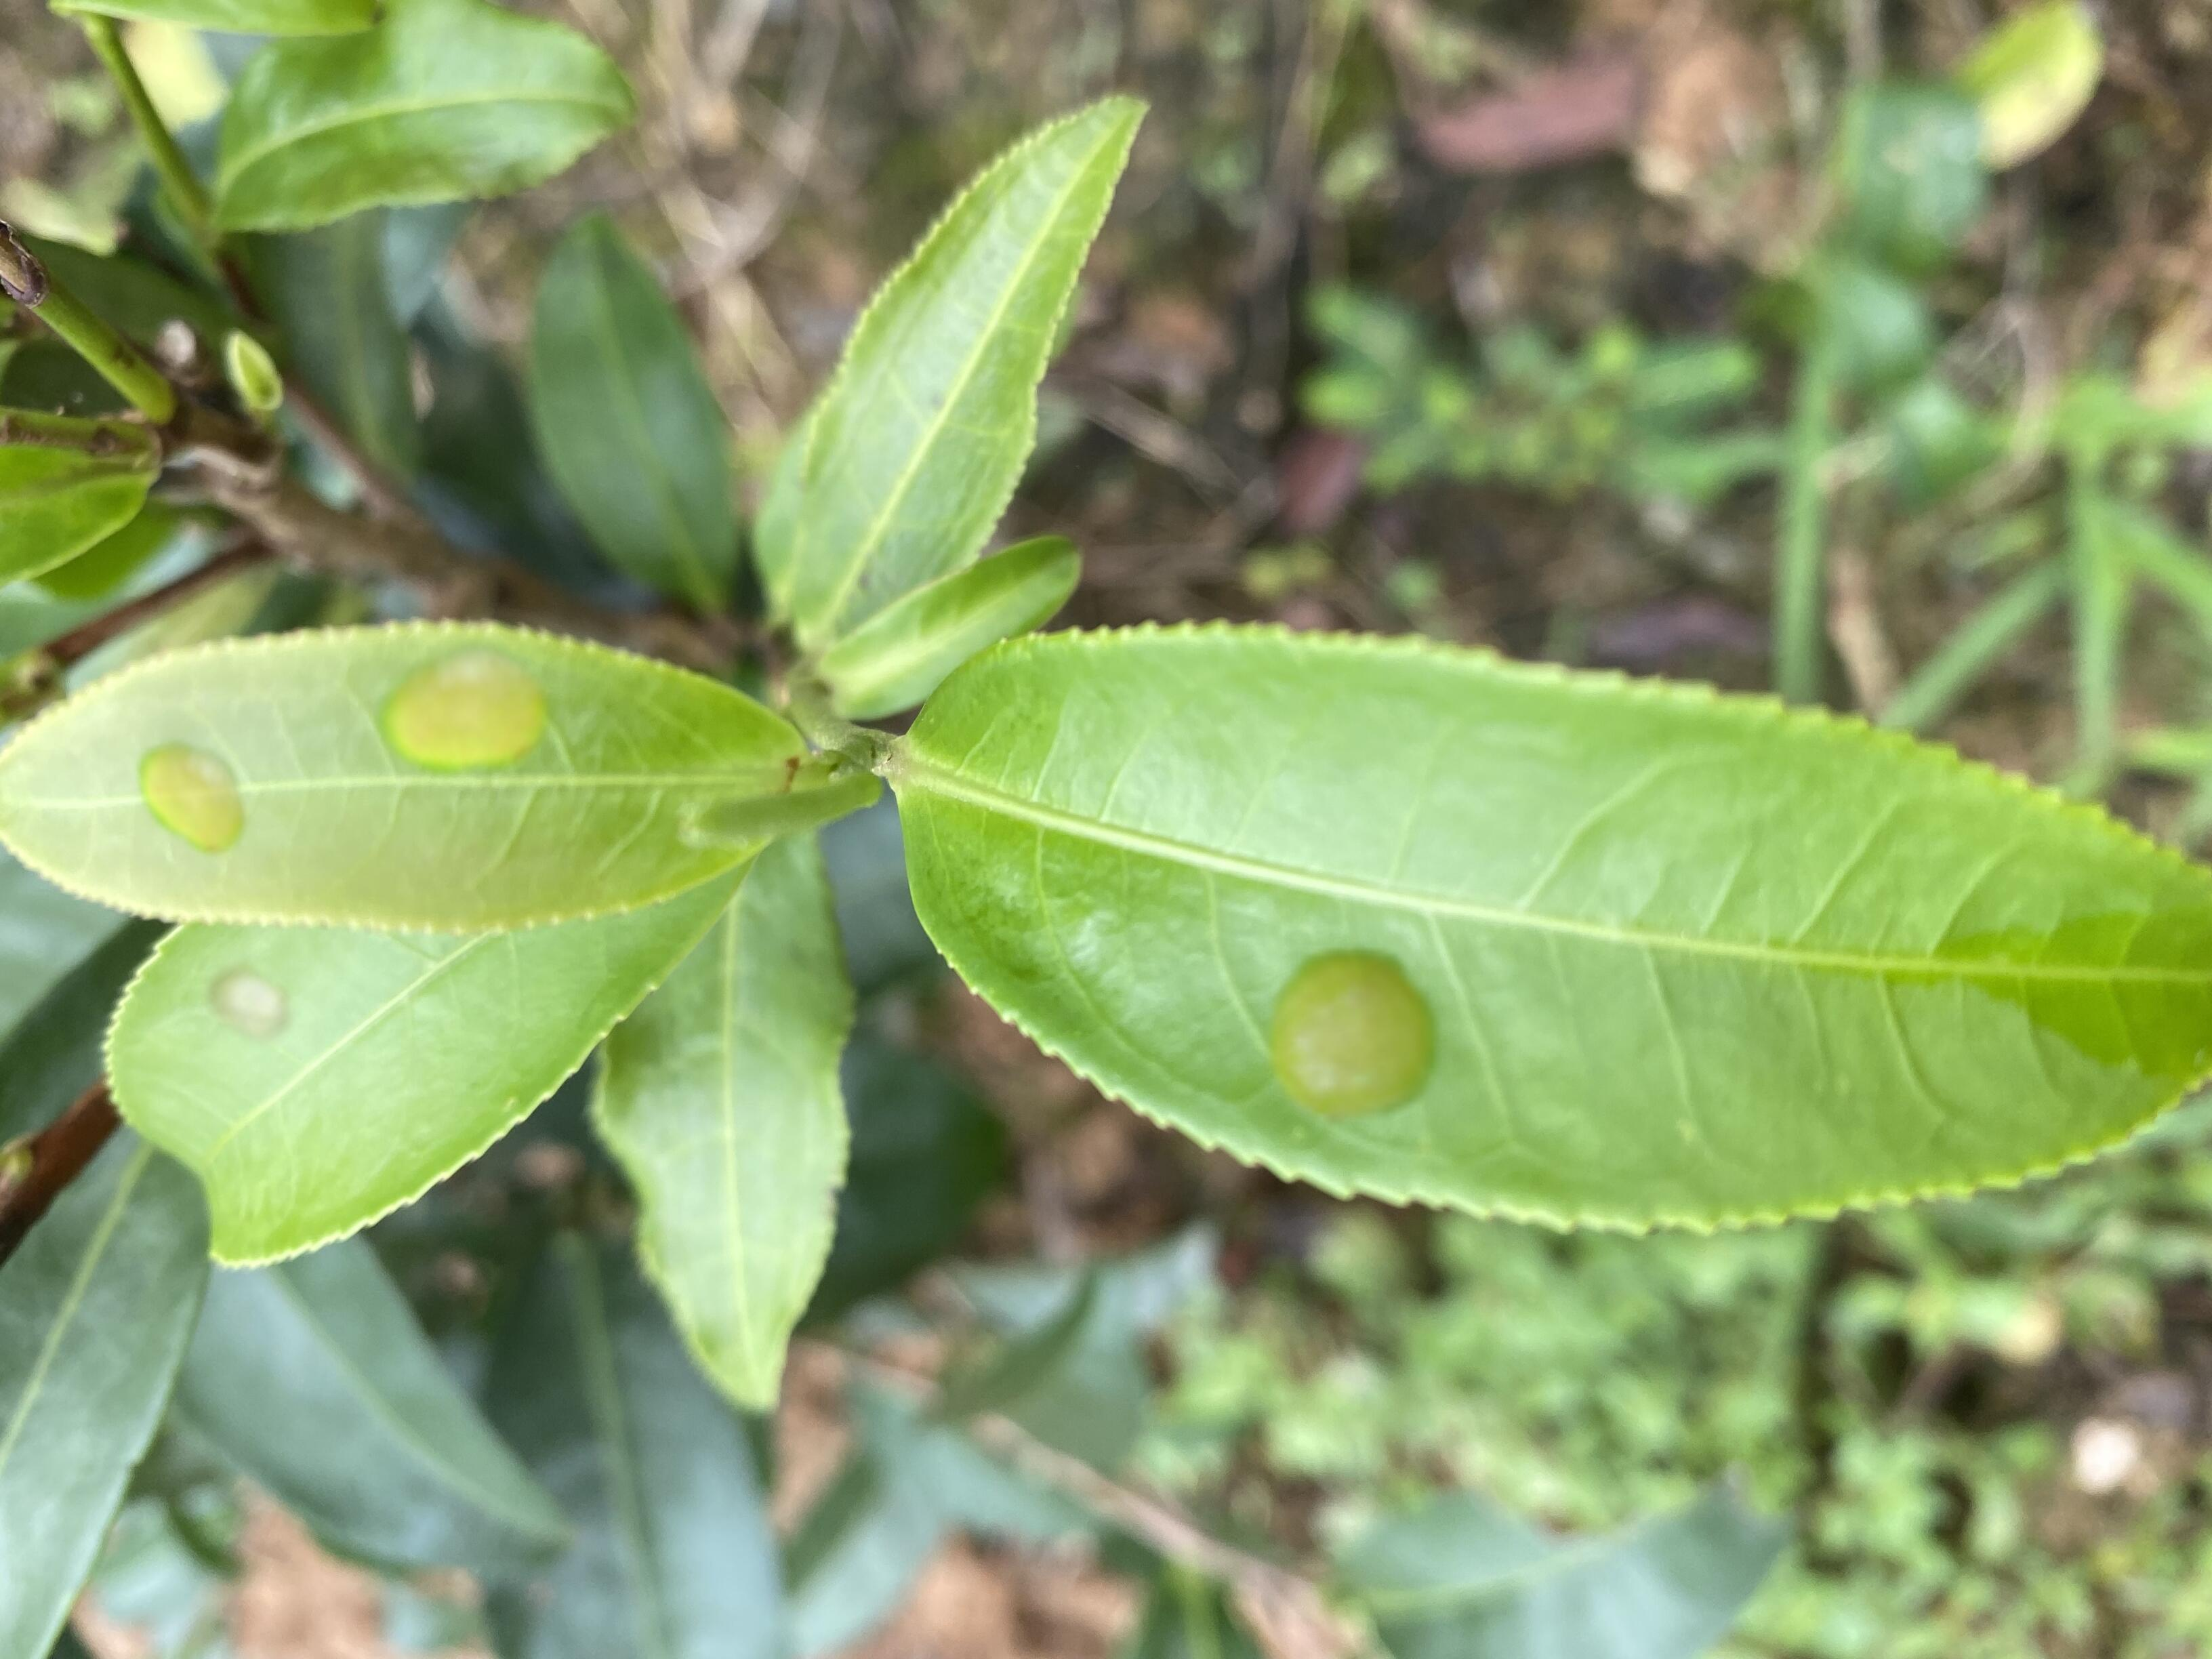chabing_high: (0, 617, 808, 934)
chabing_low: (899, 619, 2209, 1241), (101, 852, 759, 1272)
healthy: (594, 836, 859, 1413), (209, 5, 639, 232), (817, 537, 1085, 721)
